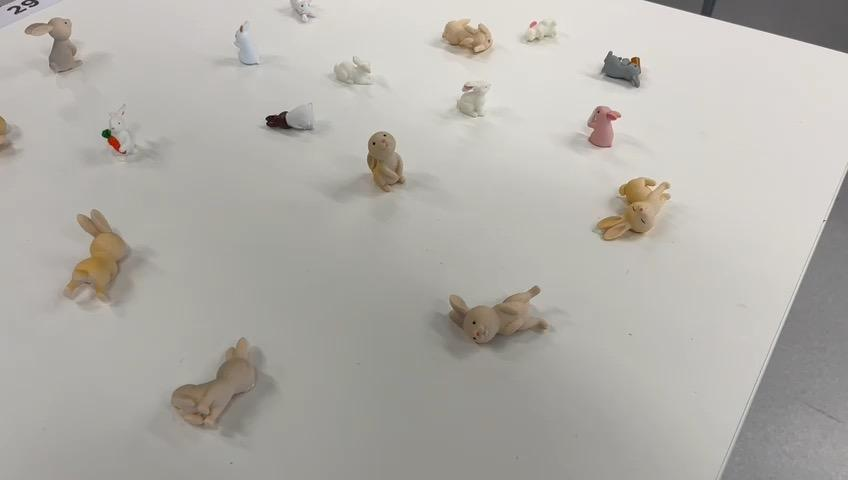pet: (175, 327, 272, 426), (439, 277, 563, 339), (62, 201, 131, 308), (596, 167, 677, 251), (353, 132, 425, 200), (97, 97, 168, 164), (17, 12, 93, 72), (436, 11, 502, 61), (264, 91, 322, 141), (227, 20, 282, 70), (451, 68, 496, 124), (521, 11, 571, 57), (335, 48, 382, 92), (585, 102, 627, 144), (596, 45, 636, 87), (278, 0, 332, 30)
